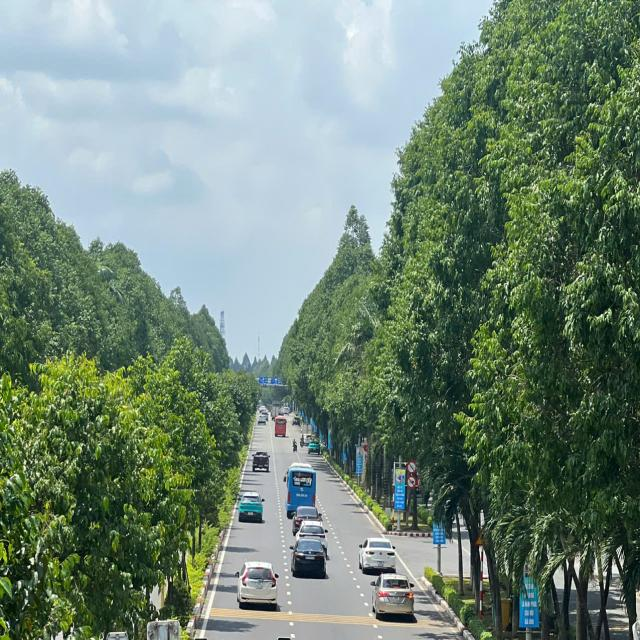car: (370, 565, 420, 625), (235, 554, 281, 612), (286, 534, 332, 582), (357, 532, 398, 576), (232, 484, 266, 526), (248, 443, 274, 479)
